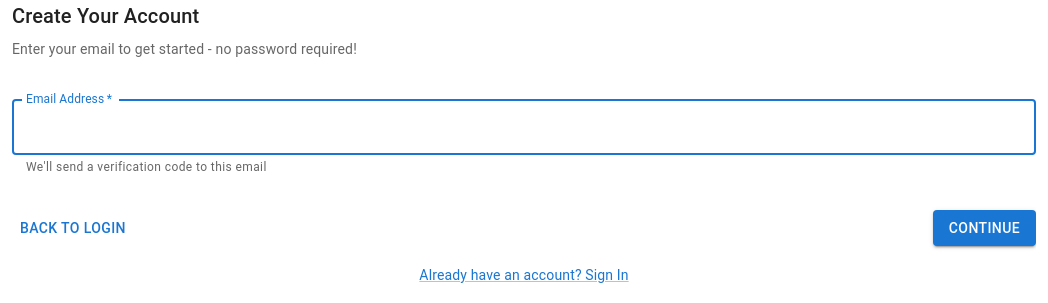
Scenario: BasicInfoStep Validation › Email Validation › should show error for invalid email format
Type "invalid-email" into the field labelled "Email Address *" at (524, 127), box [12,99,1036,155]
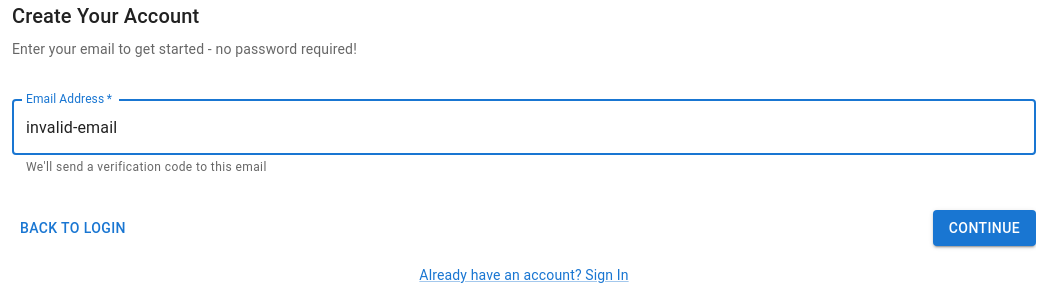
// Submit the form directly
Submit the form
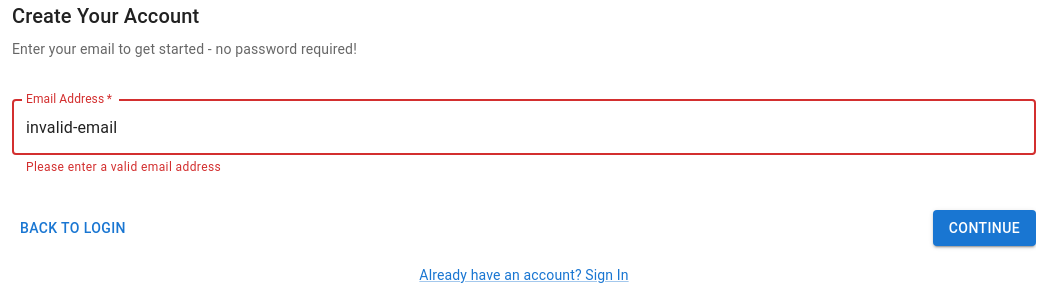
Expected: the text "Please enter a valid email address" is shown, [26,160,221,174]
